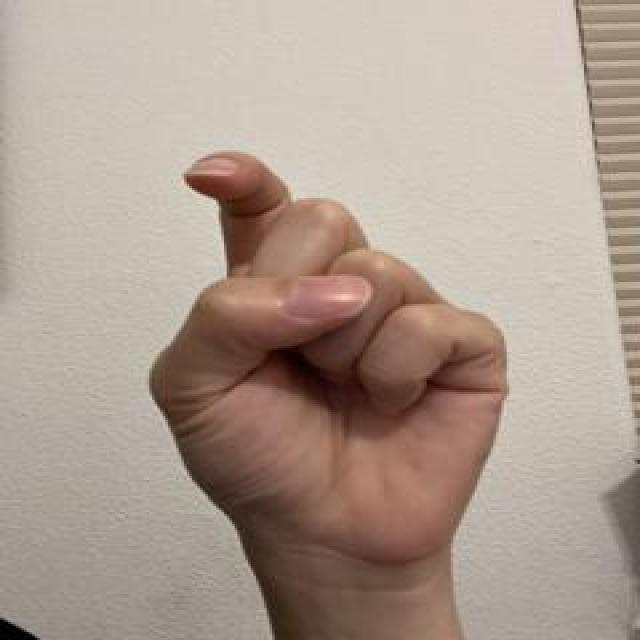X: (141, 146, 520, 576)
